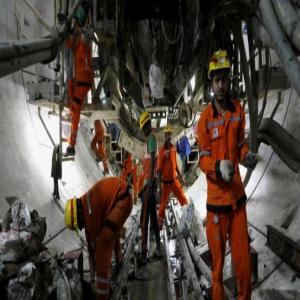yellow: (210, 50, 233, 101), (65, 196, 86, 237), (139, 112, 154, 138), (165, 126, 174, 144)
